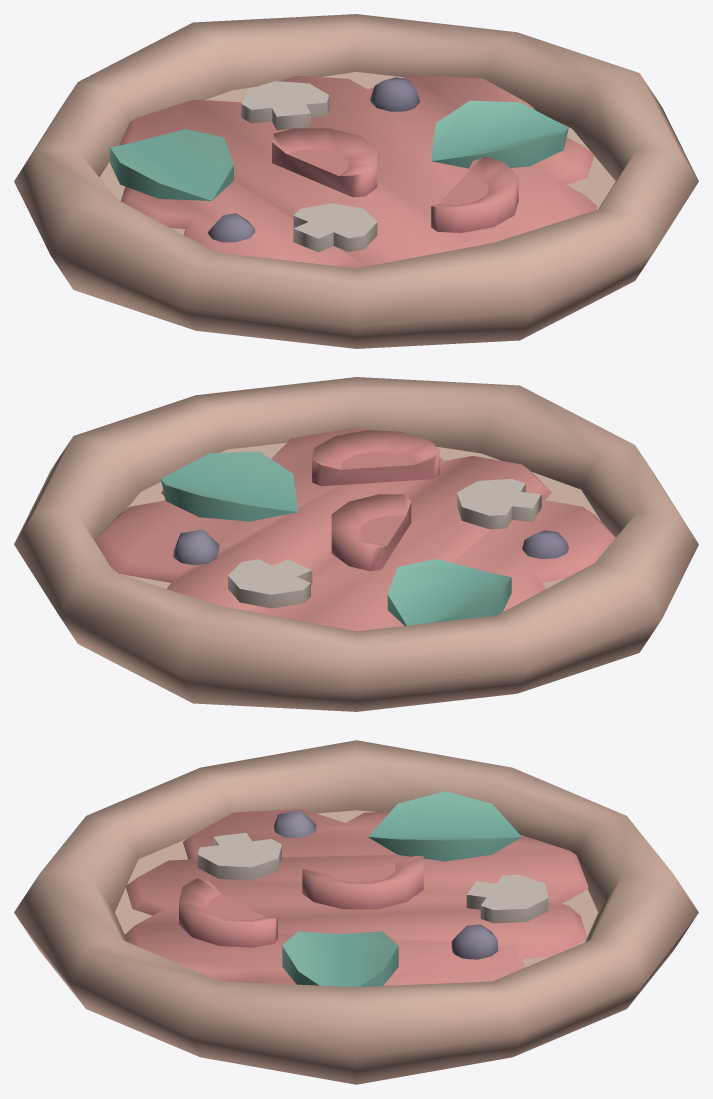
The model's file is pizza.glb.
3 renders of one model, top to bottom at view 1: azimuth 30°, elevation 25°; view 2: azimuth 150°, elevation 25°; view 3: azimuth 270°, elevation 25°, orthographic. The views are drawn at different scales.
Parts seen in each view (by area): view 1: pizza; view 2: pizza; view 3: pizza.
Boxes of the visible parts, x1=… form: pizza: x1=14, y1=14, x2=698, y2=348; pizza: x1=14, y1=377, x2=698, y2=711; pizza: x1=14, y1=740, x2=698, y2=1084.
Bounding box in the file's own units: 0.7035 × 0.0866 × 0.7035.
